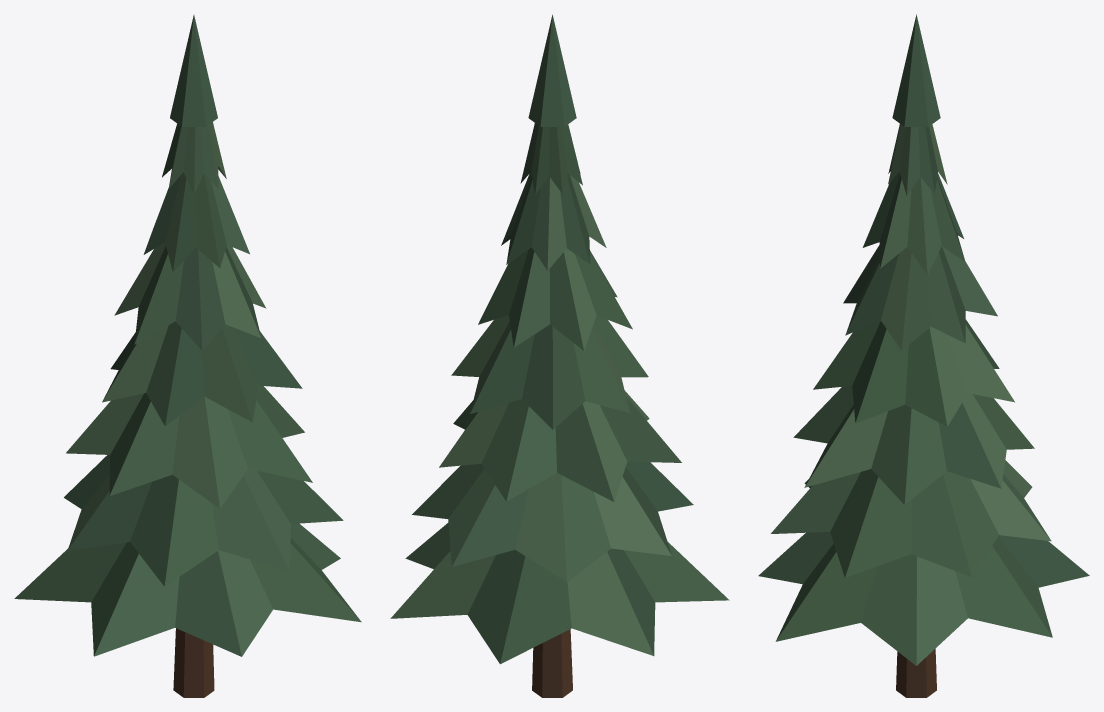
File: river_pine.glb
The picture shows the model from 3 angles, left to right: view 1: azimuth 30°, elevation 25°; view 2: azimuth 150°, elevation 25°; view 3: azimuth 270°, elevation 25°; orthographic projection.
Parts seen in each view (by area): view 1: river_pine; view 2: river_pine; view 3: river_pine.
Boxes of the visible parts, bbox=[...] form: river_pine: bbox=[14, 15, 361, 697]; river_pine: bbox=[390, 14, 729, 697]; river_pine: bbox=[758, 14, 1089, 697].
Bounding box in the file's own units: 5.5 × 12.35 × 5.49.
